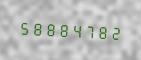eight: (30, 17, 42, 38), (43, 18, 55, 39), (56, 19, 68, 39), (95, 21, 107, 41)
five: (17, 17, 29, 37)
four: (69, 19, 81, 40)
seven: (82, 20, 94, 41)
two: (108, 22, 120, 42)
